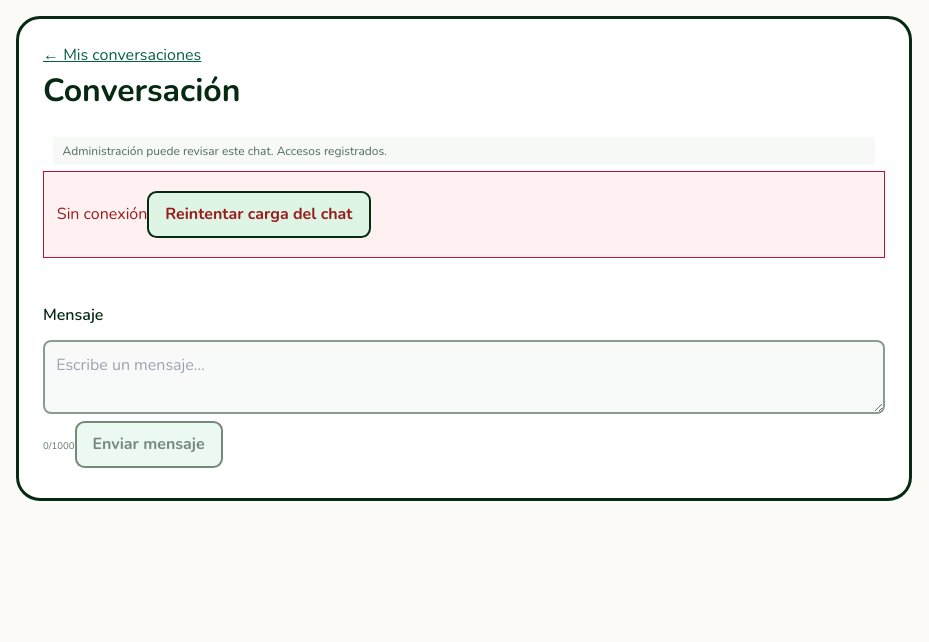
Test: allows retry after a failed load instead of leaving a permanent spinner
Expected: the text "Sin conexión" is shown, [57, 203, 147, 225]
Click the button "Reintentar carga del chat": (259, 214) [147, 191, 370, 238]
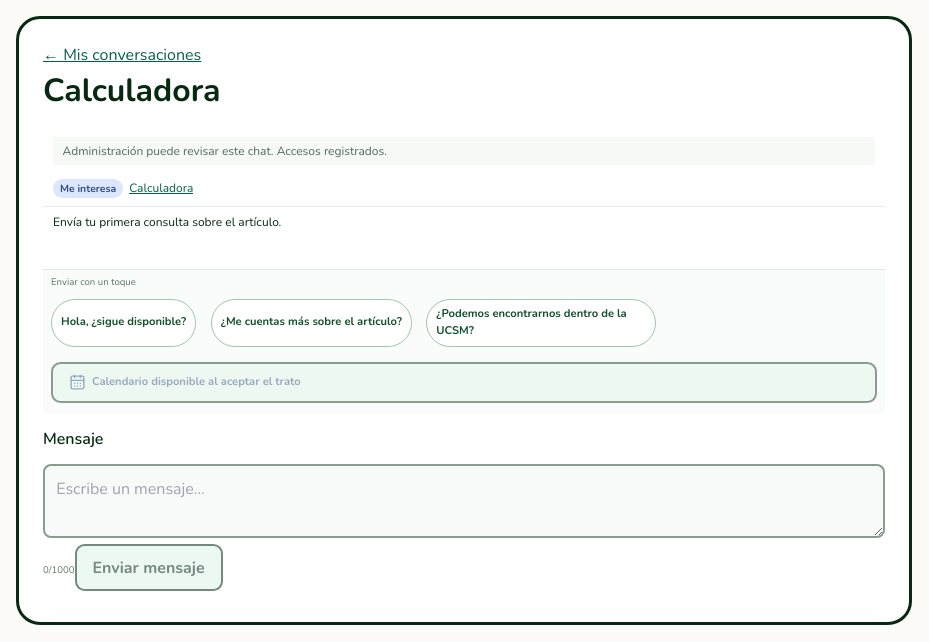
Expected: the heading "Calculadora" is shown, [43, 69, 221, 112]
Expected: the text box labelled "Mensaje" is enabled, [43, 464, 885, 538]
